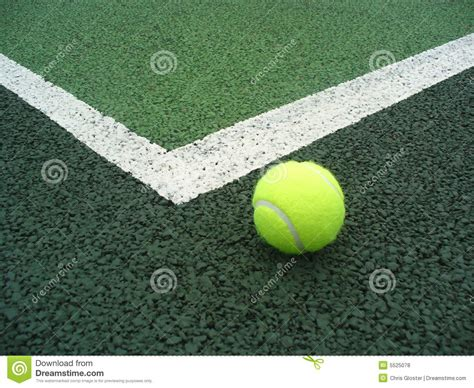tennis_ball: (251, 159, 346, 255)
